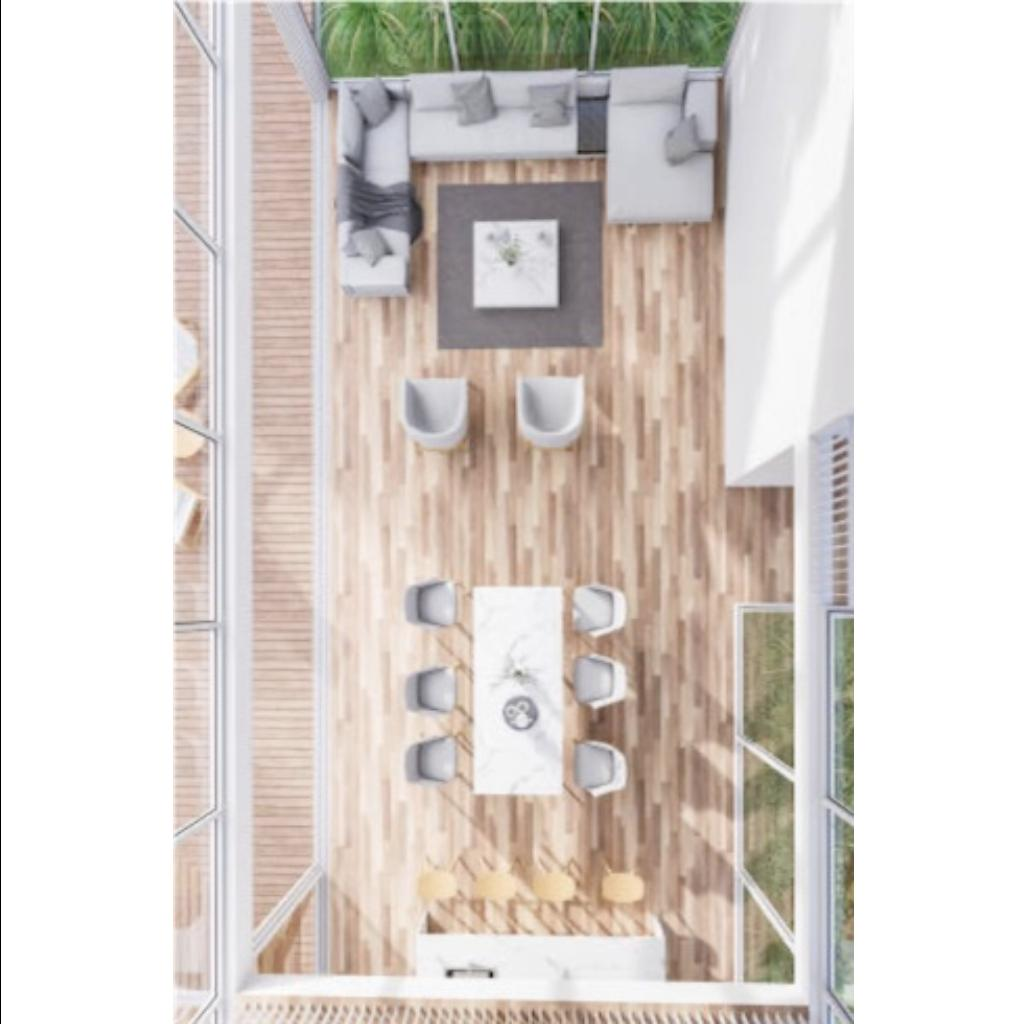bar counter: (415, 920, 665, 980)
chair: (396, 376, 470, 448), (515, 374, 583, 450), (568, 740, 624, 798), (568, 654, 624, 710), (568, 585, 624, 639), (401, 736, 453, 788), (401, 667, 453, 717), (401, 581, 455, 629)
chair-bed: (610, 68, 718, 220)
coffee table: (472, 220, 556, 308)
dining table: (470, 585, 560, 795)
rug: (434, 181, 598, 347)
side table: (574, 94, 606, 154)
sofa: (336, 75, 406, 295), (412, 76, 570, 158)
stool: (600, 871, 642, 903), (414, 871, 454, 901), (479, 869, 515, 899), (534, 872, 570, 900)
window: (830, 812, 850, 1014), (830, 610, 850, 808), (173, 1, 187, 211), (172, 628, 186, 832), (174, 421, 186, 625), (174, 214, 186, 418), (597, 2, 749, 18), (298, 2, 444, 18), (172, 834, 184, 1022), (447, 2, 595, 16)
